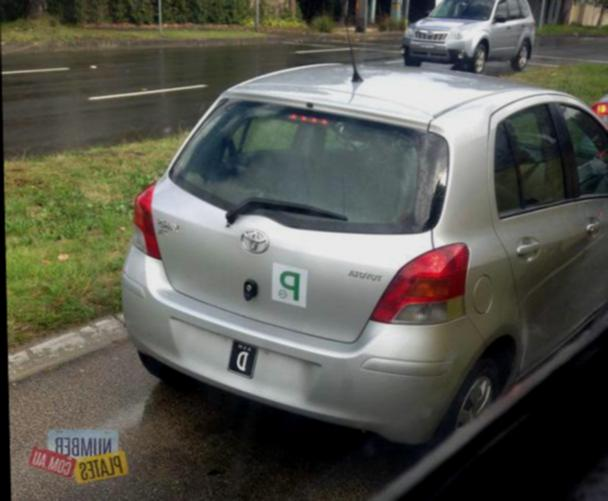License_Plate: (218, 337, 269, 388)
